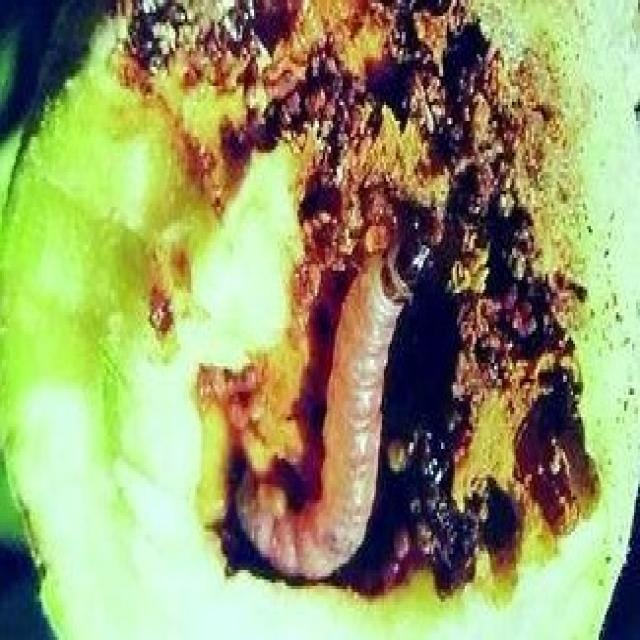peach borer: (234, 226, 435, 586)
